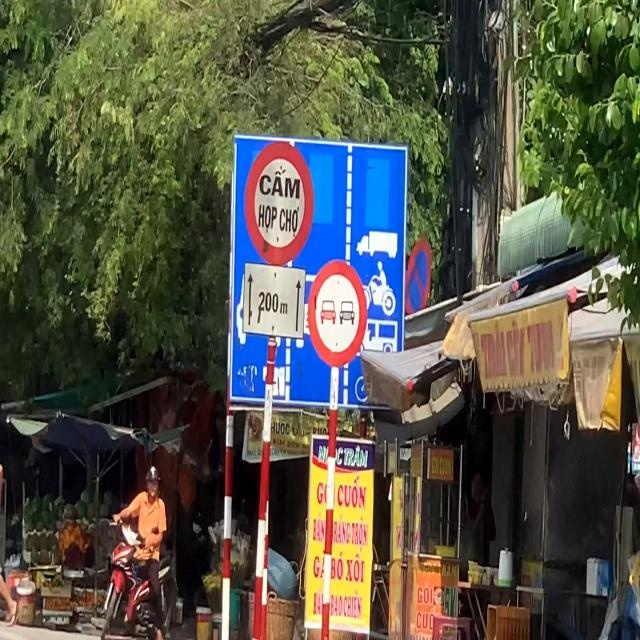bien_cam: (308, 255, 366, 373)
